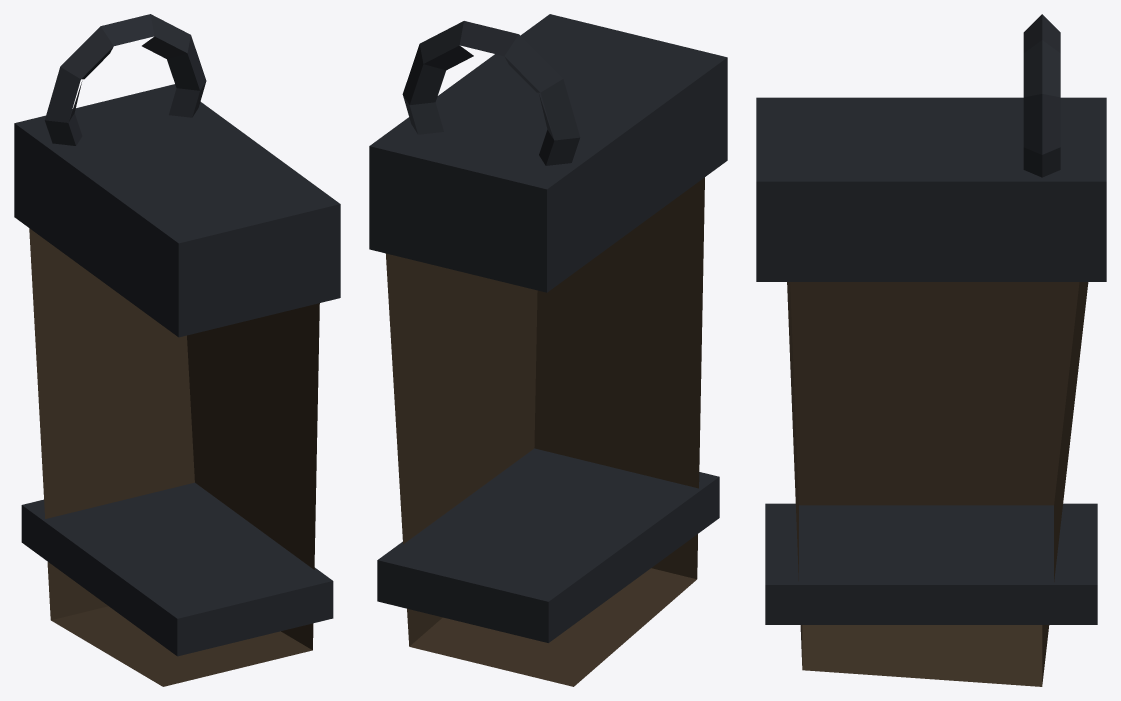
Rendered from holster.lod.glb.
The picture shows the model from 3 angles, left to right: view 1: azimuth 30°, elevation 25°; view 2: azimuth 150°, elevation 25°; view 3: azimuth 270°, elevation 25°; orthographic projection. The views are drawn at different scales.
Visible parts, largest first — view 1: m; view 2: m; view 3: m.
Boxes of the visible parts, left/top/right/bottom form: m: left=14, top=14, right=340, bottom=686; m: left=369, top=14, right=727, bottom=686; m: left=756, top=14, right=1106, bottom=686.
Bounding box in the file's own units: 0.0494 × 0.17 × 0.087.
